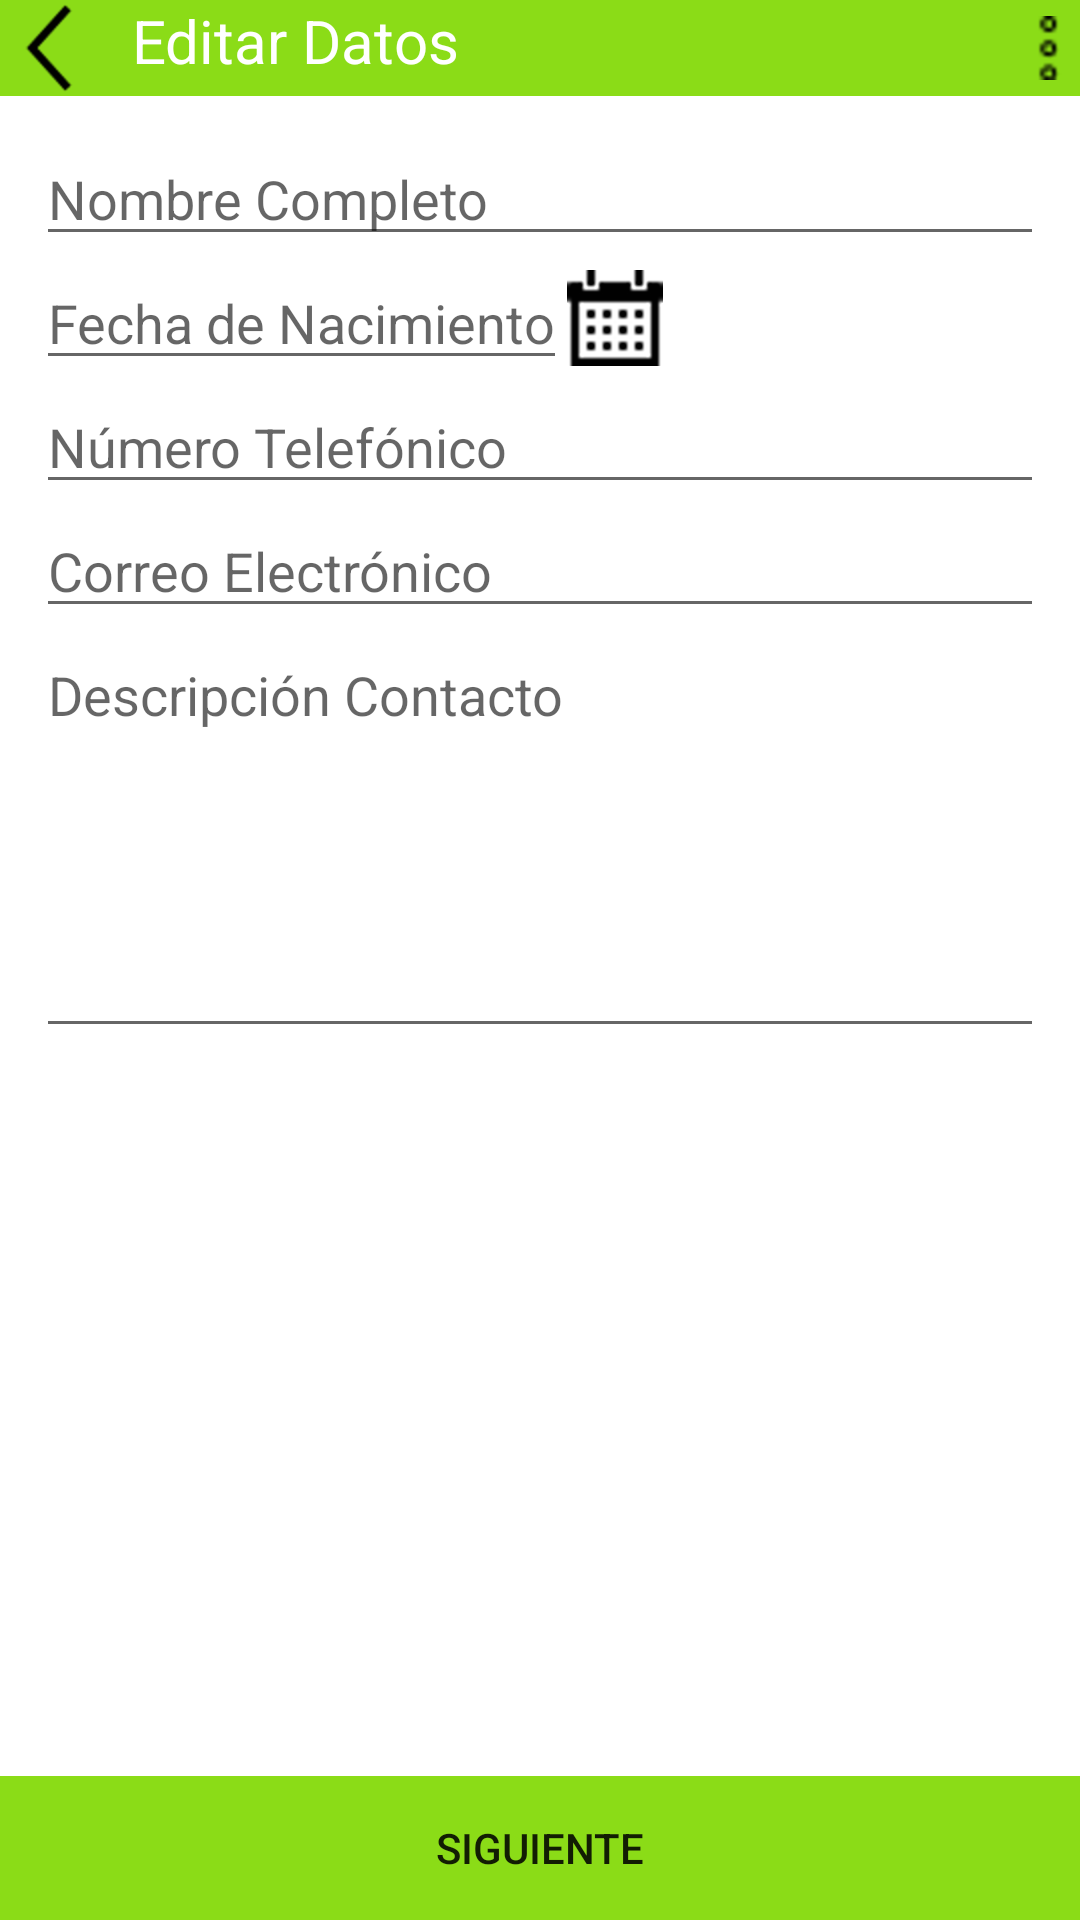

Locate icon controls on the screen. Image size 1080w x 1920h, boxes as (x1, y1, x2, y2).
back: (26, 5, 72, 91)
calendar: (567, 270, 663, 366)
menu: (1039, 16, 1058, 80)
